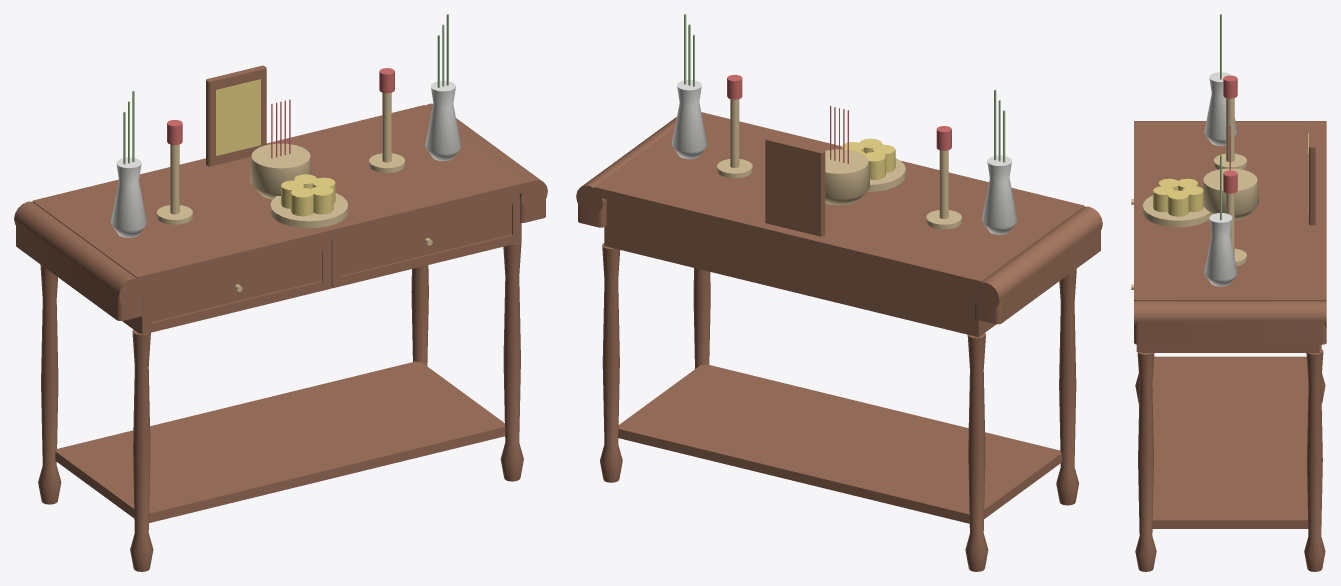
3 renders of one model, left to right at view 1: azimuth 30°, elevation 25°; view 2: azimuth 150°, elevation 25°; view 3: azimuth 270°, elevation 25°, orthographic. The views are drawn at different scales.
Visible parts, largest first — view 1: Bàn thờ Dài=1750; Sâu=810; view 2: Bàn thờ Dài=1750; Sâu=810; view 3: Bàn thờ Dài=1750; Sâu=810.
Boxes of the visible parts, bbox=[...] form: Bàn thờ Dài=1750; Sâu=810: bbox=[14, 14, 547, 571]; Bàn thờ Dài=1750; Sâu=810: bbox=[576, 14, 1102, 571]; Bàn thờ Dài=1750; Sâu=810: bbox=[1131, 14, 1326, 571].
Bounding box in the file's own units: 1.91 × 1.87 × 0.822.
